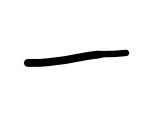minus: (23, 49, 129, 67)
